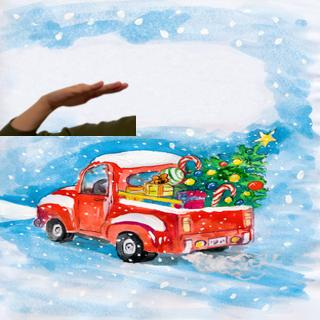WAIT: (42, 78, 131, 110)
